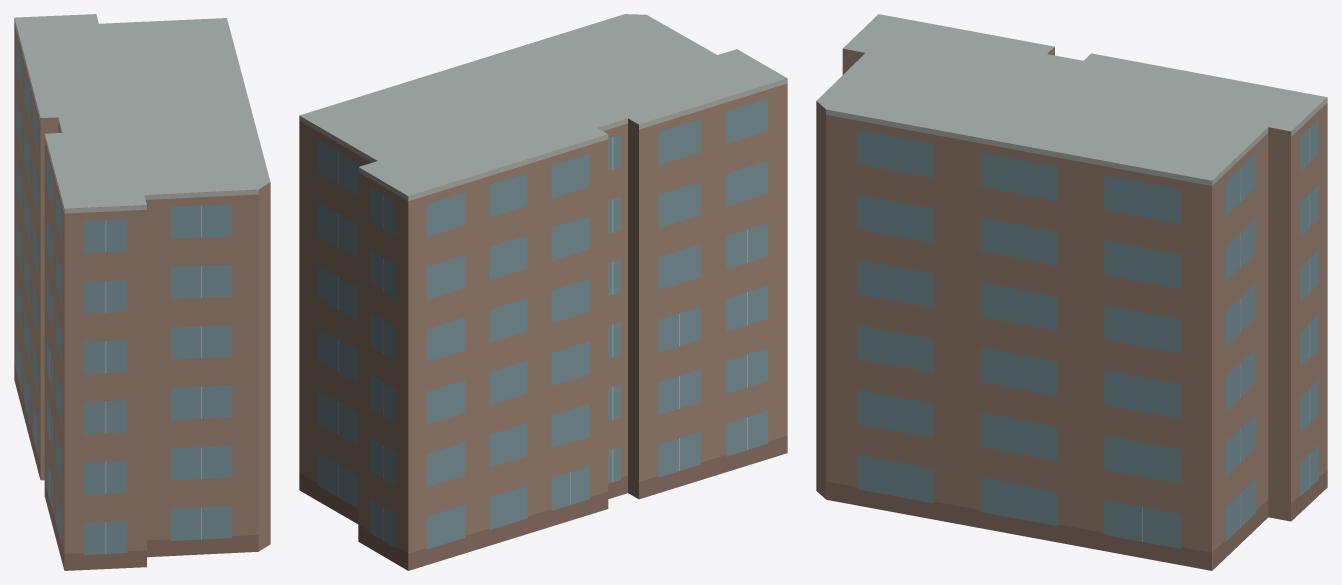
The model's file is survey-upis-33037660.glb.
The picture shows the model from 3 angles, left to right: view 1: azimuth 30°, elevation 25°; view 2: azimuth 150°, elevation 25°; view 3: azimuth 270°, elevation 25°; orthographic projection. The views are drawn at different scales.
Parts seen in each view (by area): view 1: survey-upis-33037660.tmp; view 2: survey-upis-33037660.tmp; view 3: survey-upis-33037660.tmp.
Boxes of the visible parts, bbox=[...] form: survey-upis-33037660.tmp: bbox=[14, 14, 270, 570]; survey-upis-33037660.tmp: bbox=[299, 14, 787, 570]; survey-upis-33037660.tmp: bbox=[816, 14, 1327, 570].
Bounding box in the file's own units: 16.42 × 17.9 × 21.27.
